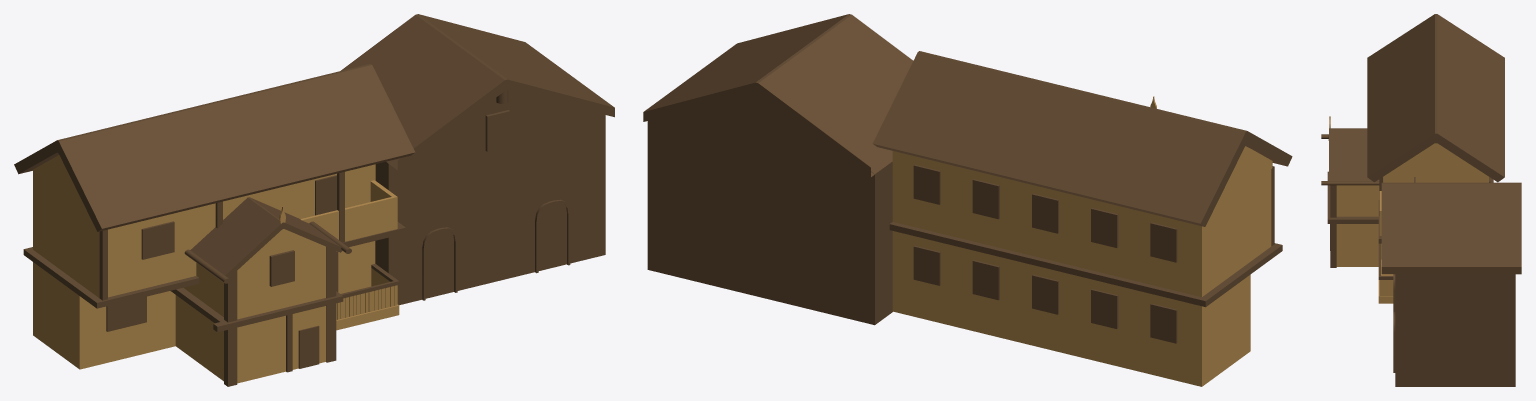
File: villageBigHouse1.fbx
The picture shows the model from 3 angles, left to right: view 1: azimuth 30°, elevation 25°; view 2: azimuth 150°, elevation 25°; view 3: azimuth 270°, elevation 25°; orthographic projection. The views are drawn at different scales.
Parts seen in each view (by area): view 1: Object, Object.001; view 2: Object, Object.006, Object.008, Object.011, Object.003, Object.005, Object.010, Object.002, Object.007, Object.004, Object.009; view 3: Object.
Boxes of the visible parts, x1=… form: Object: x1=14, y1=14, x2=614, y2=386; Object.001: x1=141, y1=221, x2=174, y2=259; Object: x1=643, y1=14, x2=1292, y2=386; Object.006: x1=913, y1=165, x2=940, y2=204; Object.008: x1=1091, y1=289, x2=1118, y2=328; Object.011: x1=913, y1=246, x2=940, y2=285; Object.003: x1=1091, y1=208, x2=1118, y2=247; Object.005: x1=972, y1=179, x2=999, y2=219; Object.010: x1=972, y1=260, x2=999, y2=300; Object.002: x1=1150, y1=222, x2=1177, y2=262; Object.007: x1=1150, y1=303, x2=1177, y2=343; Object.004: x1=1032, y1=193, x2=1058, y2=233; Object.009: x1=1032, y1=274, x2=1058, y2=314; Object: x1=1321, y1=14, x2=1521, y2=386.
Bounding box in the file's own units: 1723 × 702 × 731.
